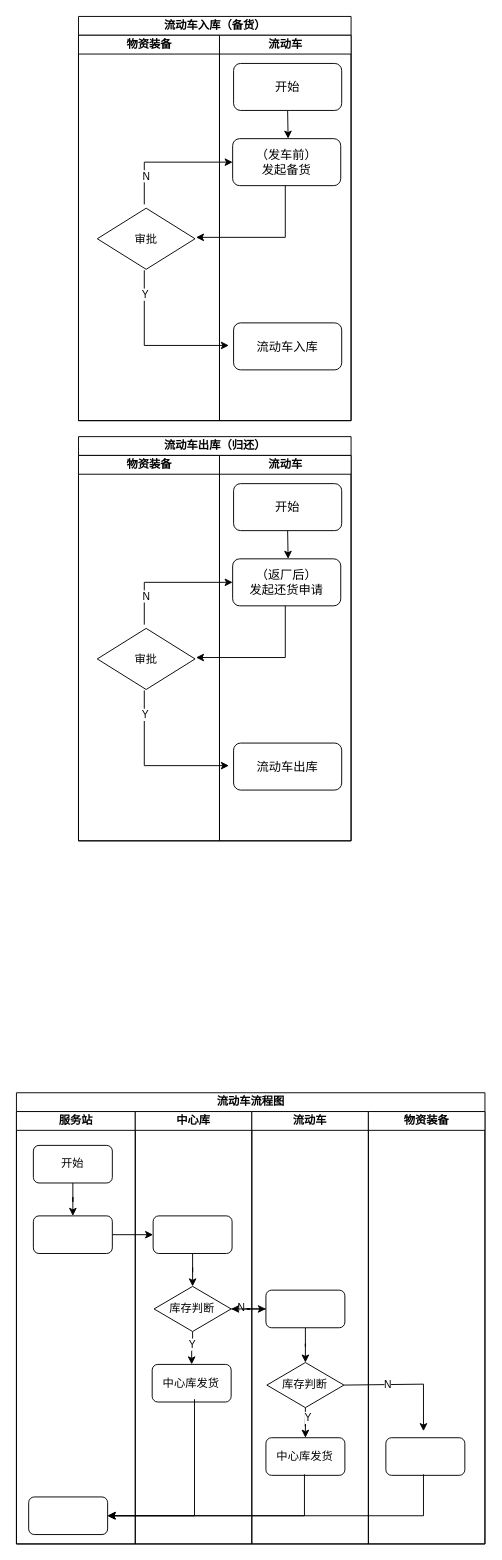
This 502x1560 diagram has some shape labels left out. Each missing label, with the centre of its shape:
"判断中心库库存" belongs at point (192, 1234).
"判断流动车库存" belongs at point (305, 1308).
"厂里发货" belongs at point (425, 1456).
"发起要货申请" belongs at point (72, 1234).
"收货" belongs at point (68, 1515).
